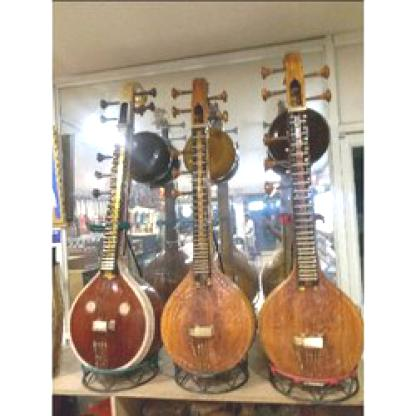Veena: (68, 73, 176, 379), (256, 64, 344, 387), (156, 80, 236, 376)
